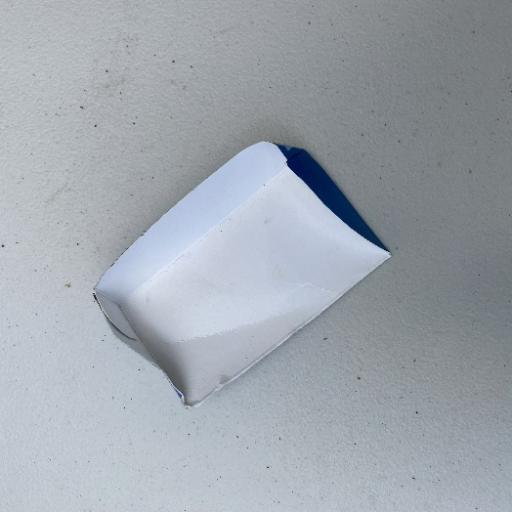Cardboard: (92, 138, 393, 408)
